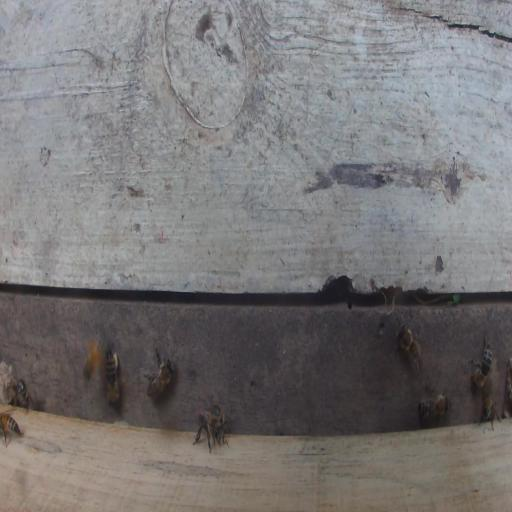bee: (193, 408, 230, 453), (145, 348, 174, 400), (394, 323, 422, 374), (469, 334, 493, 390), (104, 344, 123, 408), (82, 330, 105, 382), (418, 392, 450, 424), (479, 392, 501, 431), (0, 410, 22, 448), (14, 378, 33, 412)
